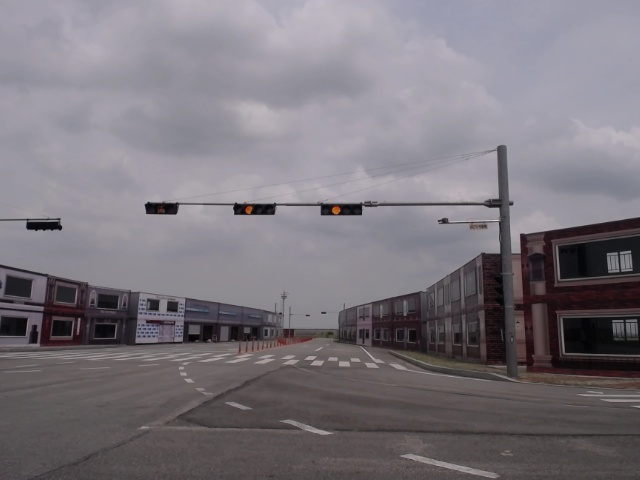orange_4: (233, 201, 278, 217), (320, 202, 364, 217)
